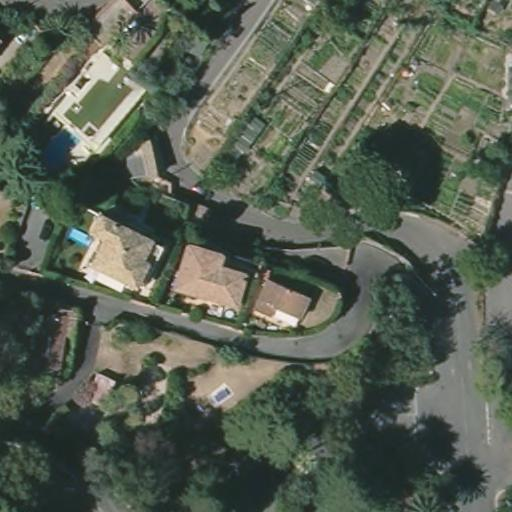pool: (30, 126, 79, 175), (64, 224, 94, 247)
